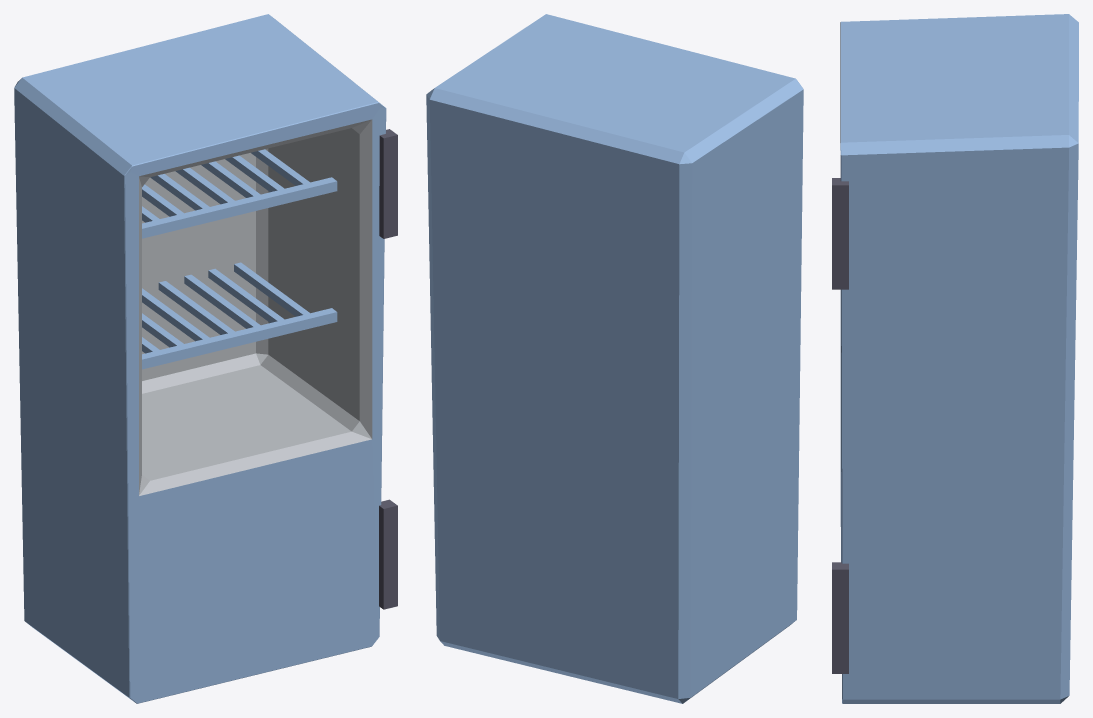
Rendered from fridge.fbx.
The picture shows the model from 3 angles, left to right: view 1: azimuth 30°, elevation 25°; view 2: azimuth 150°, elevation 25°; view 3: azimuth 270°, elevation 25°; orthographic projection. The views are drawn at different scales.
Parts seen in each view (by area): view 1: Cube.077; view 2: Cube.077; view 3: Cube.077.
Boxes of the visible parts, x1,y1,x2,y2 form: Cube.077: [14, 14, 397, 703]; Cube.077: [426, 14, 803, 703]; Cube.077: [832, 14, 1078, 703].
Size of the model in its own units: 221 by 432 by 169.
